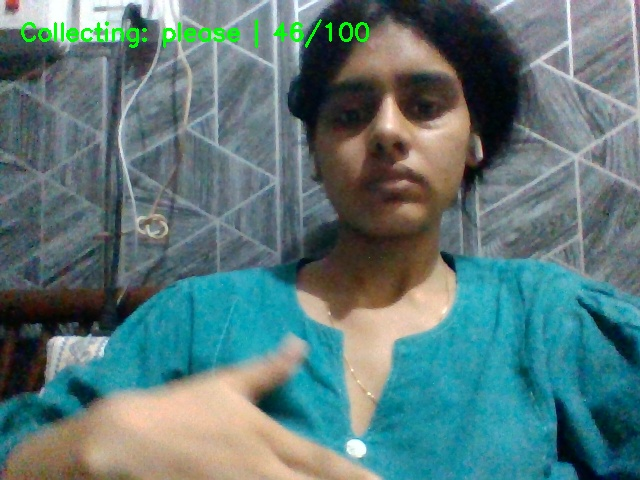please: (91, 327, 414, 480)
